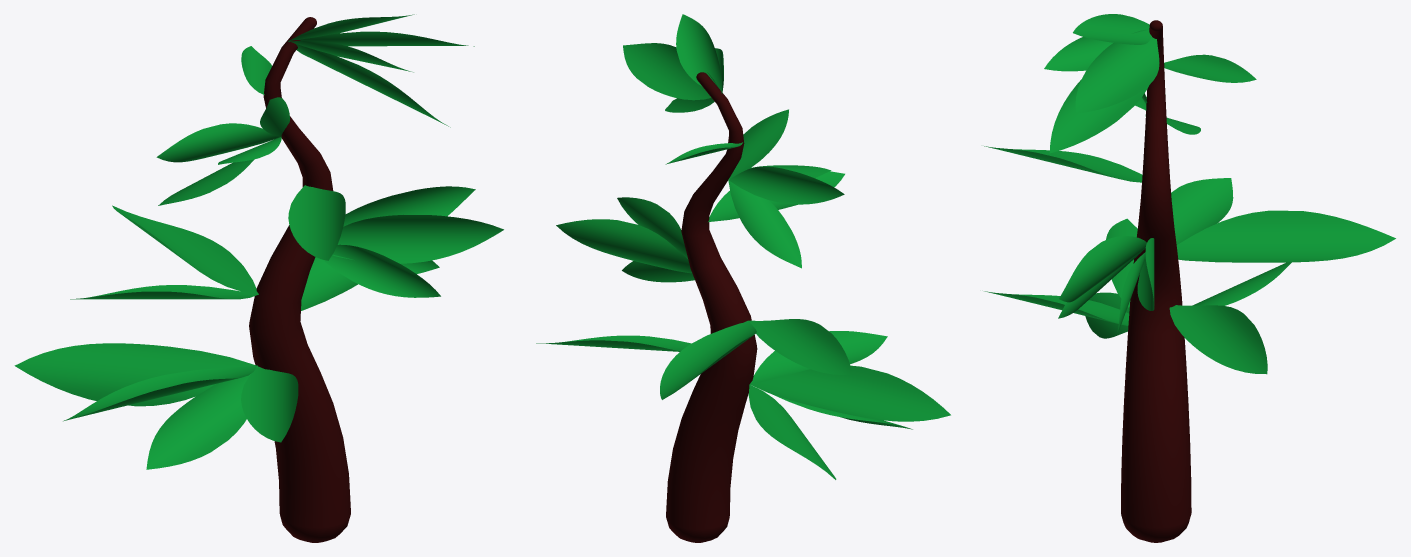
Rendered from plant2.fbx.
3 views of the same model, side by side, from view 1: azimuth 30°, elevation 25°; view 2: azimuth 150°, elevation 25°; view 3: azimuth 270°, elevation 25° (orthographic). The views are drawn at different scales.
Visible parts, largest first — view 1: Leaves, Stem_2; view 2: Leaves, Stem_2; view 3: Leaves, Stem_2.
Part boxes in pixels (bbox=[...]): Leaves: bbox=[14, 14, 503, 469]; Stem_2: bbox=[249, 17, 350, 542]; Leaves: bbox=[536, 14, 950, 479]; Stem_2: bbox=[666, 72, 757, 542]; Leaves: bbox=[984, 14, 1395, 374]; Stem_2: bbox=[1121, 20, 1191, 542].
Size of the model in its own units: 1.88 by 2.27 by 1.6.
